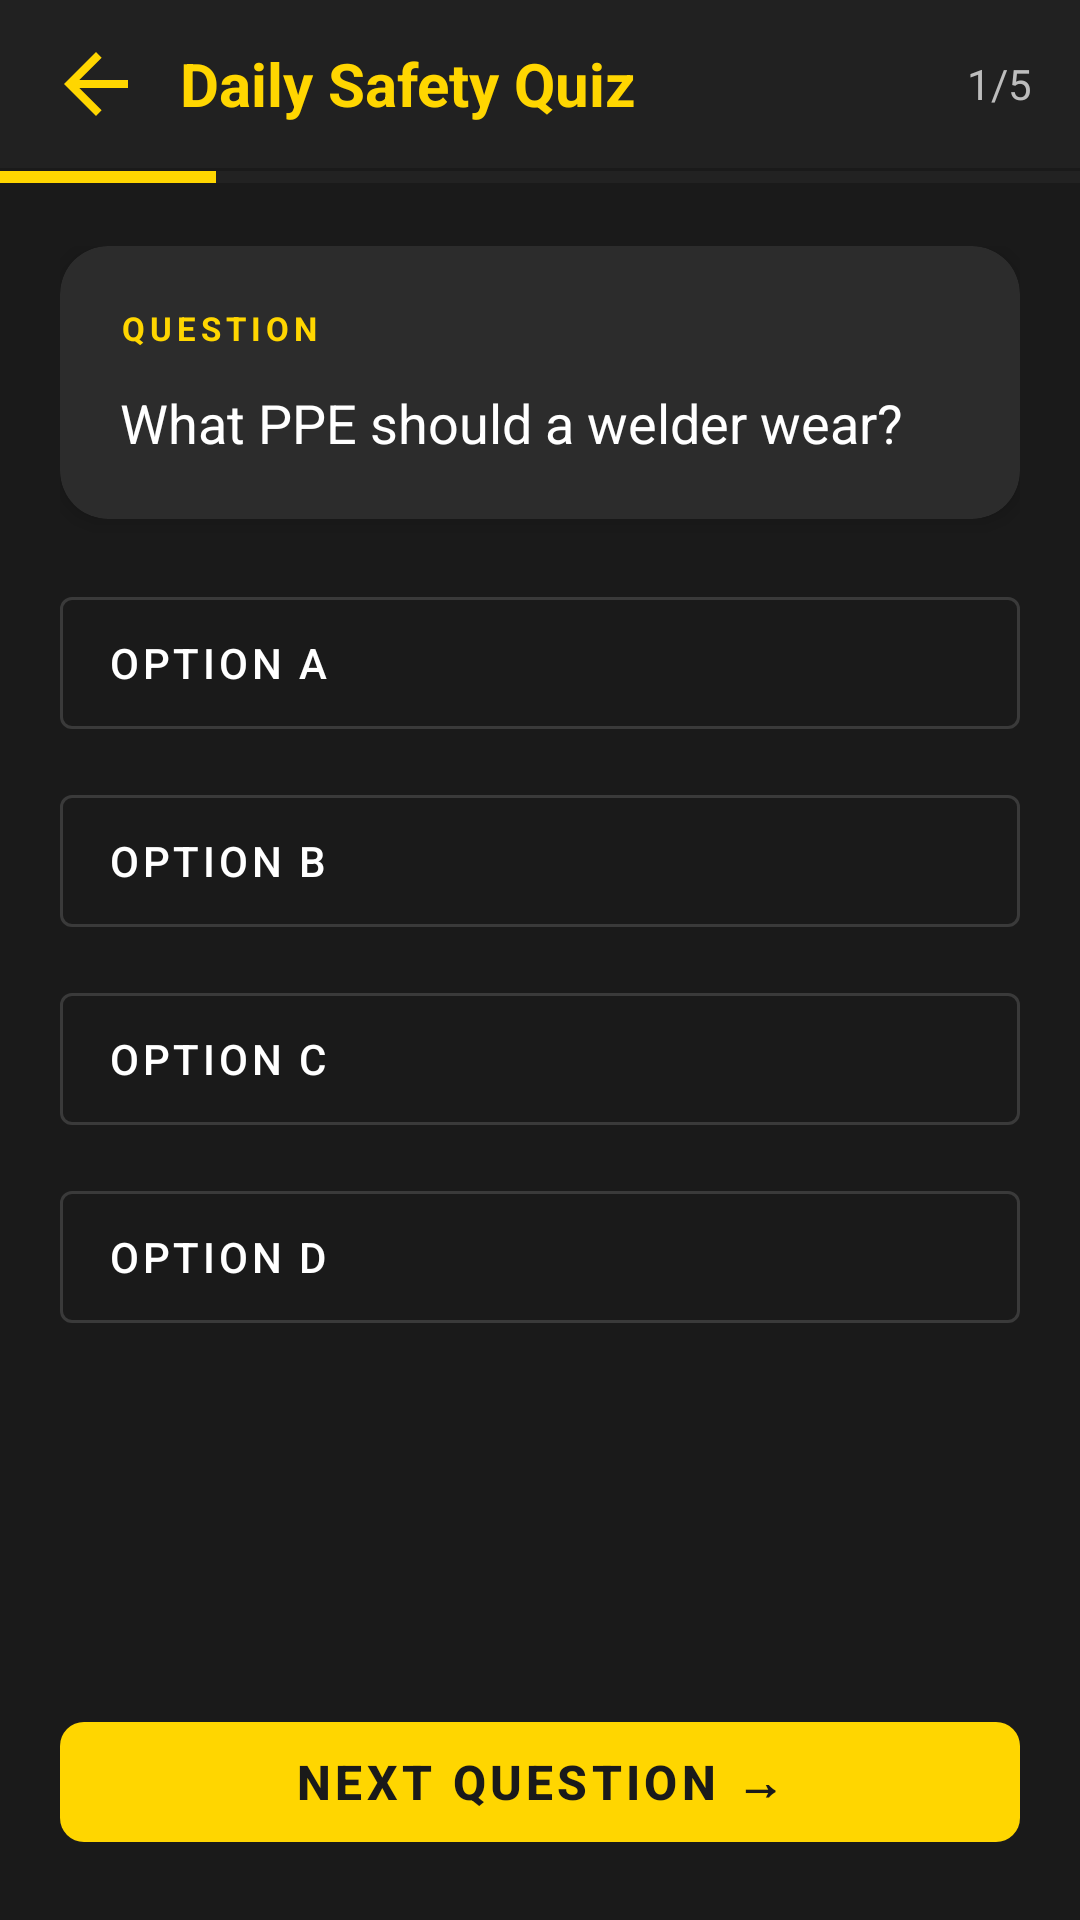

Point at icon controls on the screen. Image size 1080w x 1920h, points as (x=x, y=y).
Back: (x=96, y=84)
